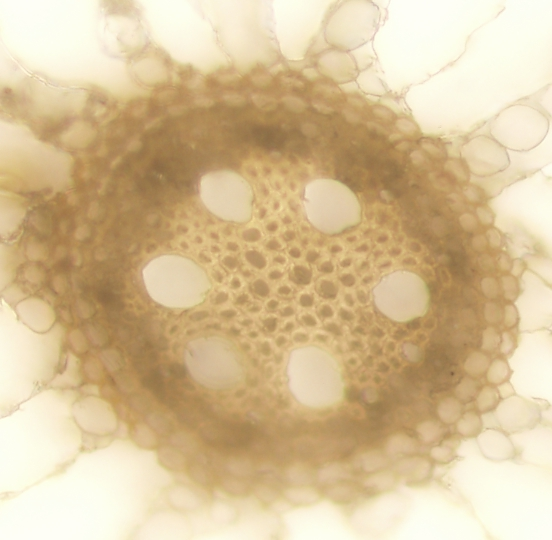lm: (142, 254, 212, 308), (184, 335, 247, 391), (289, 343, 343, 407), (303, 178, 362, 236), (198, 169, 255, 225), (373, 269, 430, 320)
